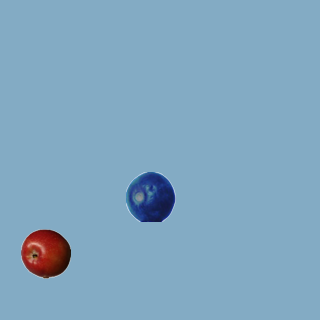Apple Braeburn: (20, 228, 70, 278)
Huckleberry: (125, 171, 175, 221)
